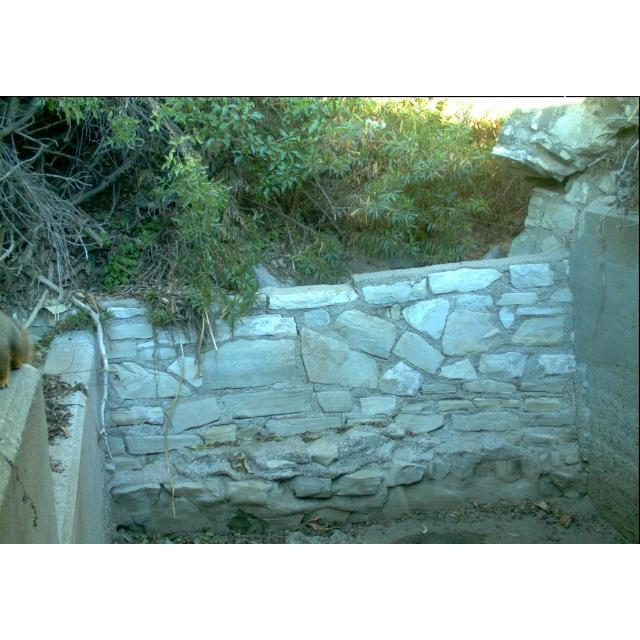animals: (298, 504, 376, 540)
